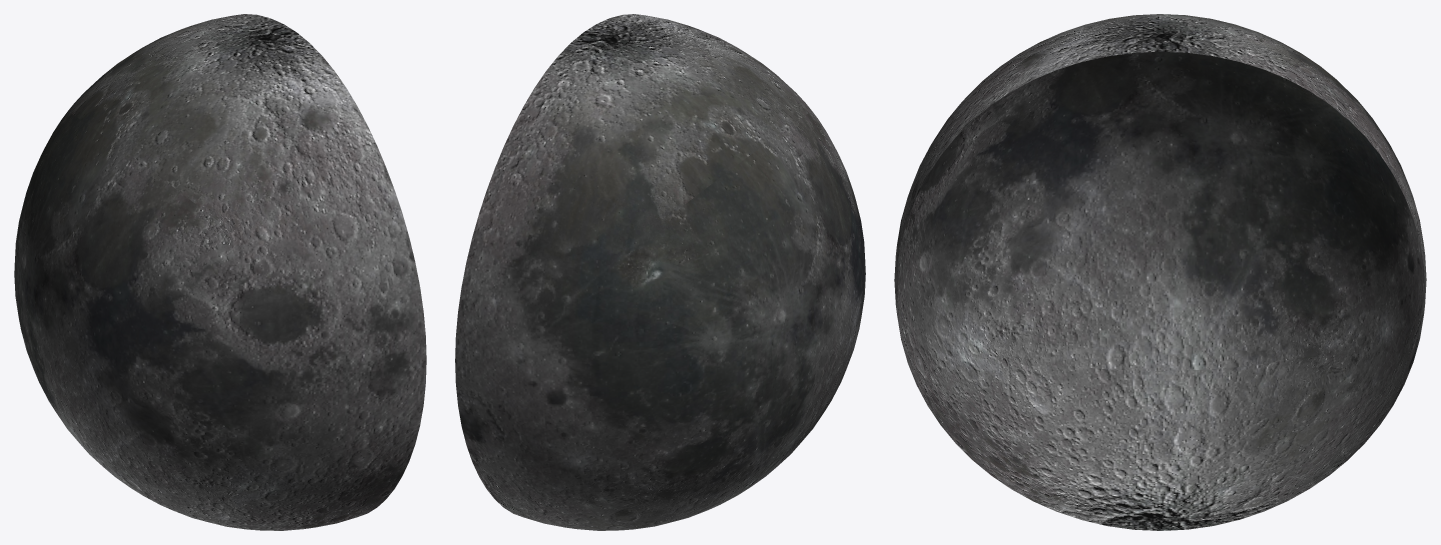
The model's file is moonhalf.glb.
The picture shows the model from 3 angles, left to right: view 1: azimuth 30°, elevation 25°; view 2: azimuth 150°, elevation 25°; view 3: azimuth 270°, elevation 25°; orthographic projection. The views are drawn at different scales.
Parts seen in each view (by area): view 1: Cube.005; view 2: Cube.005; view 3: Cube.005.
Part boxes in pixels (box(x1,y1,x2,y2)): Cube.005: box(14, 14, 426, 530); Cube.005: box(455, 14, 865, 530); Cube.005: box(894, 14, 1426, 530).
Bounding box in the file's own units: 5.68 × 10.27 × 10.28.
Materials: 1 (1 with a texture image).
